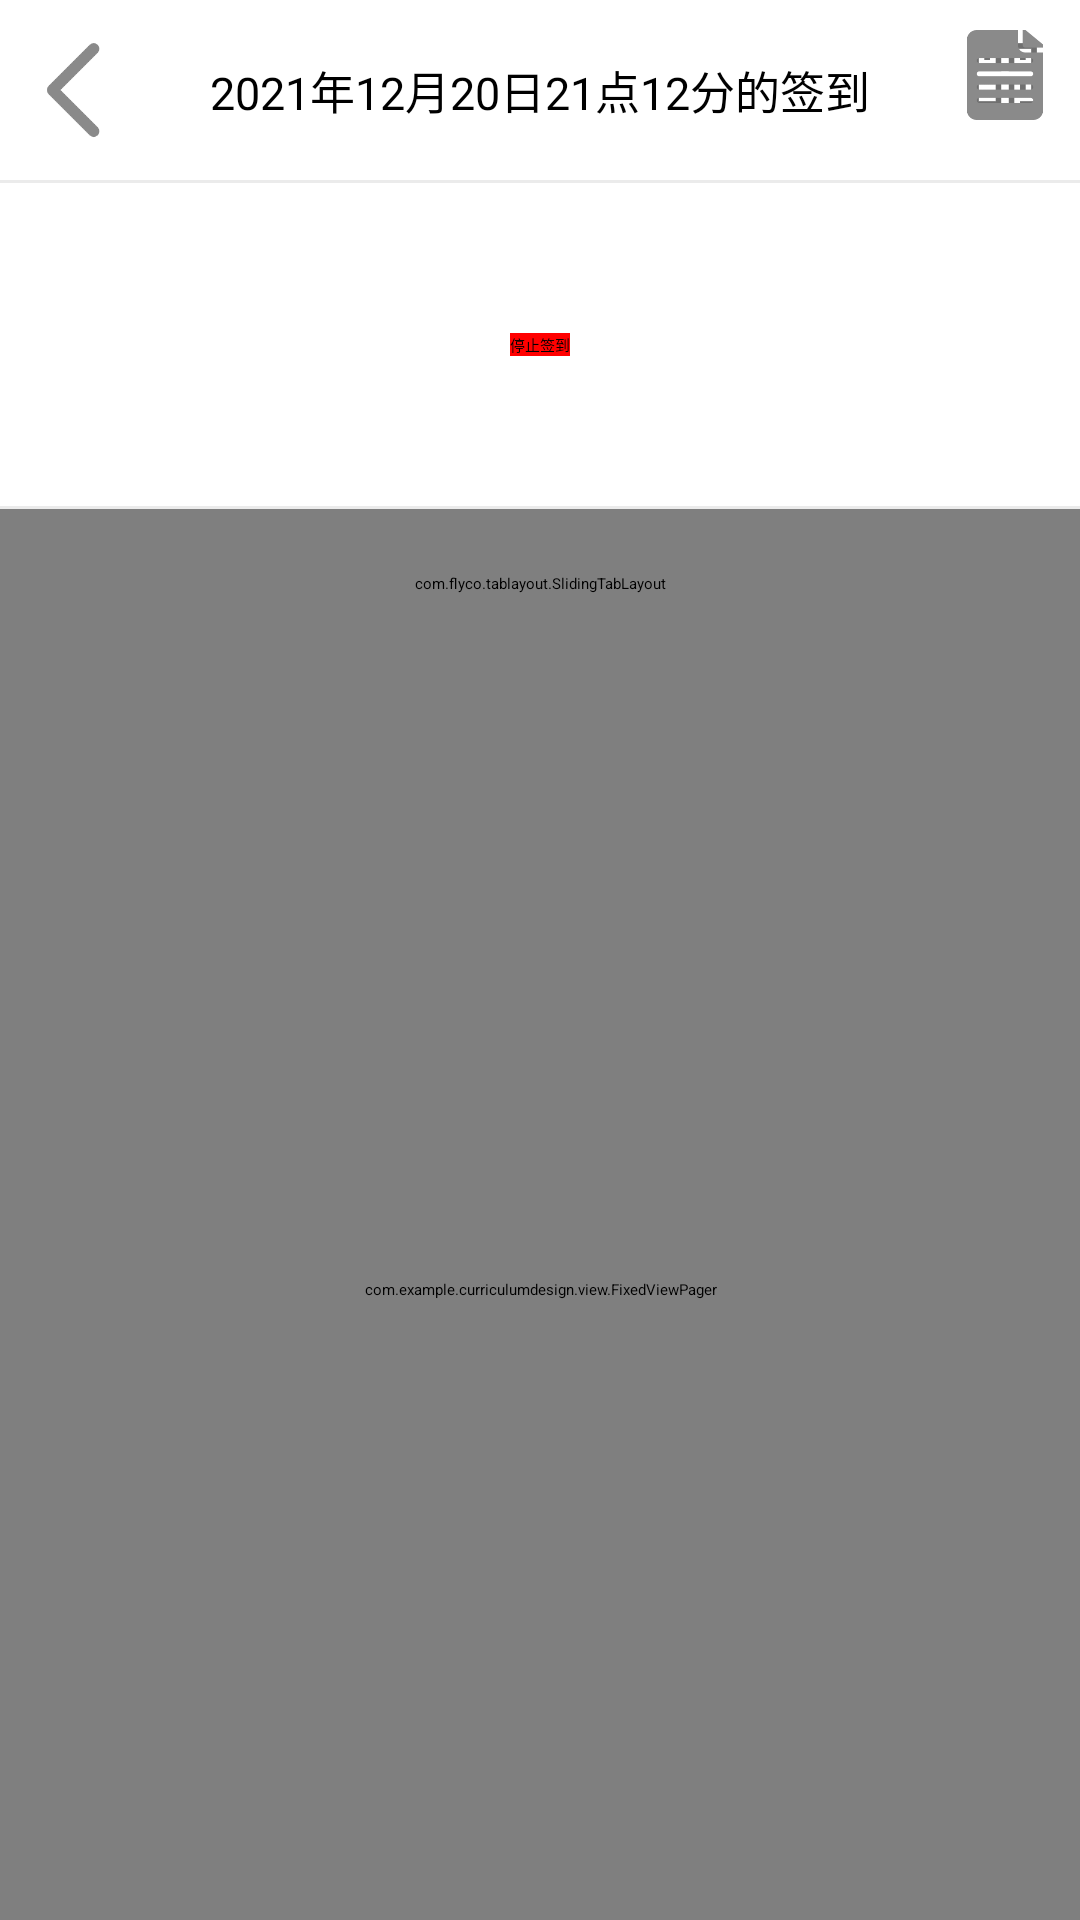

Where to tap for icons on this 1080w x 1920h app screen, as [x,y]:
back: [73,90]
